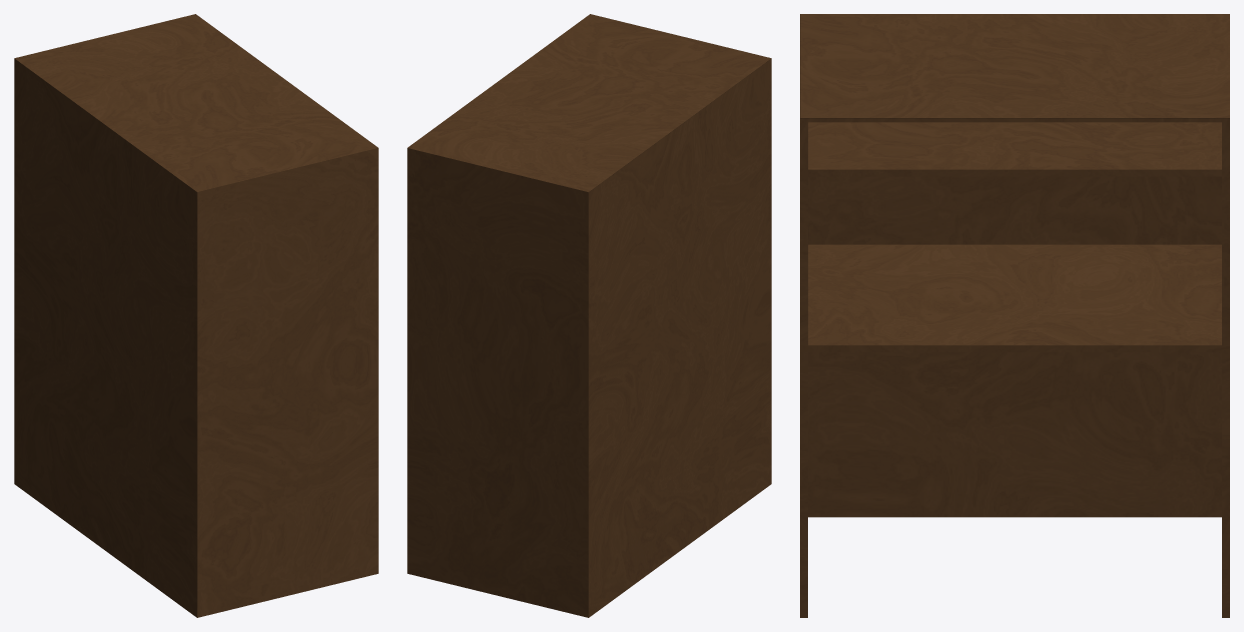
The model's file is ModeloEstanteCadeirante.glb.
3 renders of one model, left to right at view 1: azimuth 30°, elevation 25°; view 2: azimuth 150°, elevation 25°; view 3: azimuth 270°, elevation 25°, orthographic. The views are drawn at different scales.
Parts seen in each view (by area): view 1: mesh0; view 2: mesh0; view 3: mesh0.
Boxes of the visible parts, x1,y1,x2,y2 form: mesh0: (14,14,378,617); mesh0: (407,14,771,617); mesh0: (800,14,1229,617).
Bounding box in the file's own units: 0.63 × 1.41 × 1.1.
1 material, 1 textured.
